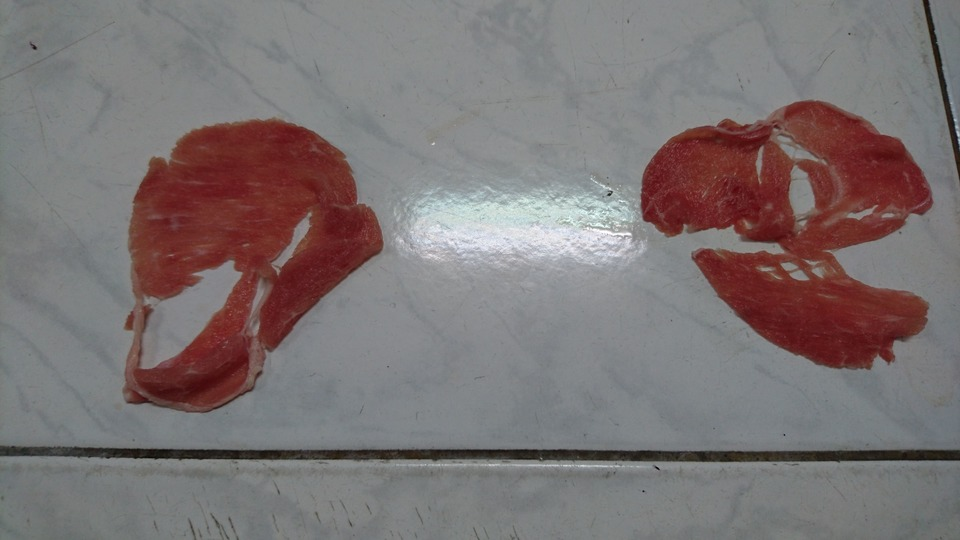restructured meat: (96, 104, 411, 426), (634, 97, 948, 367)
